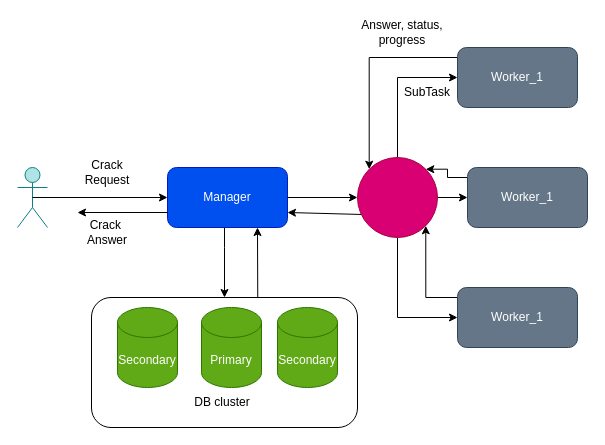
This 605x445 diagram has some shape labels left out. The shapes that lost their labels are listed below. From the top down, each one's centre as x and y in pixels, then its label:
At [32,197]: "User".
At [397,197]: "Message Queue".
